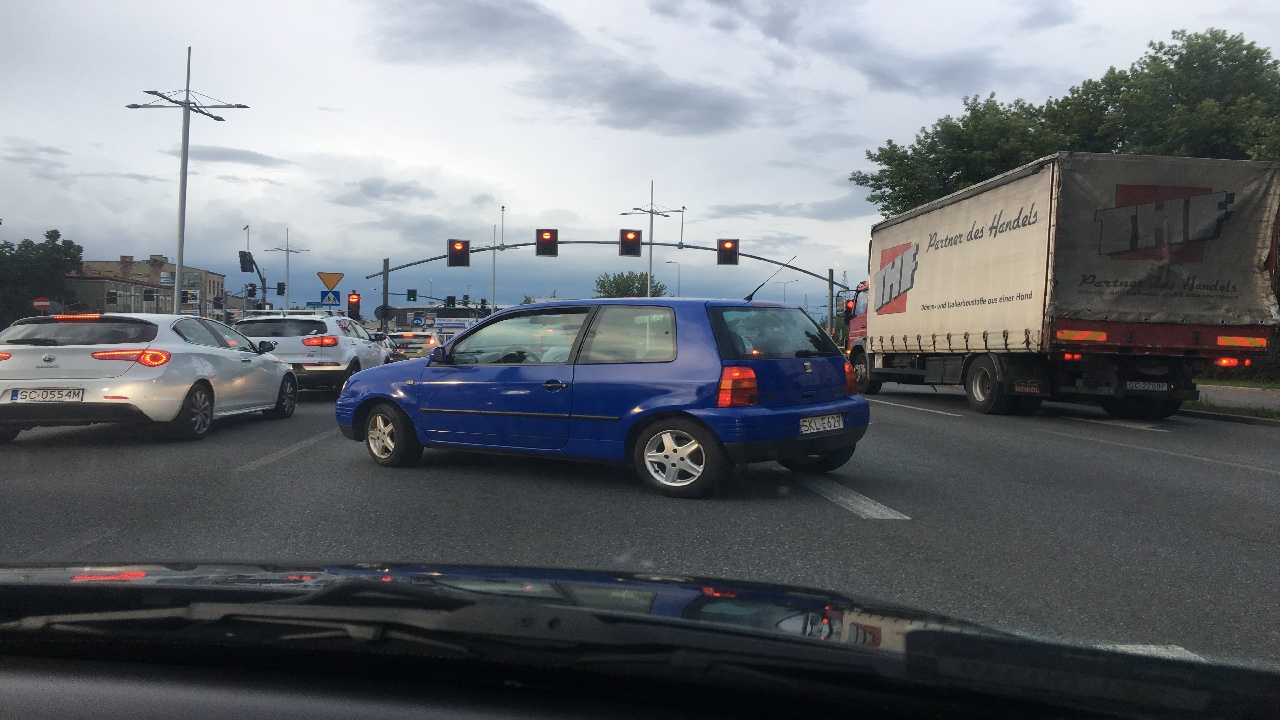A7: (314, 268, 349, 287)
